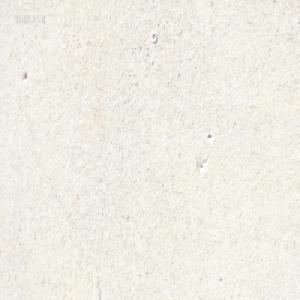Washer: (150, 32, 157, 43)
